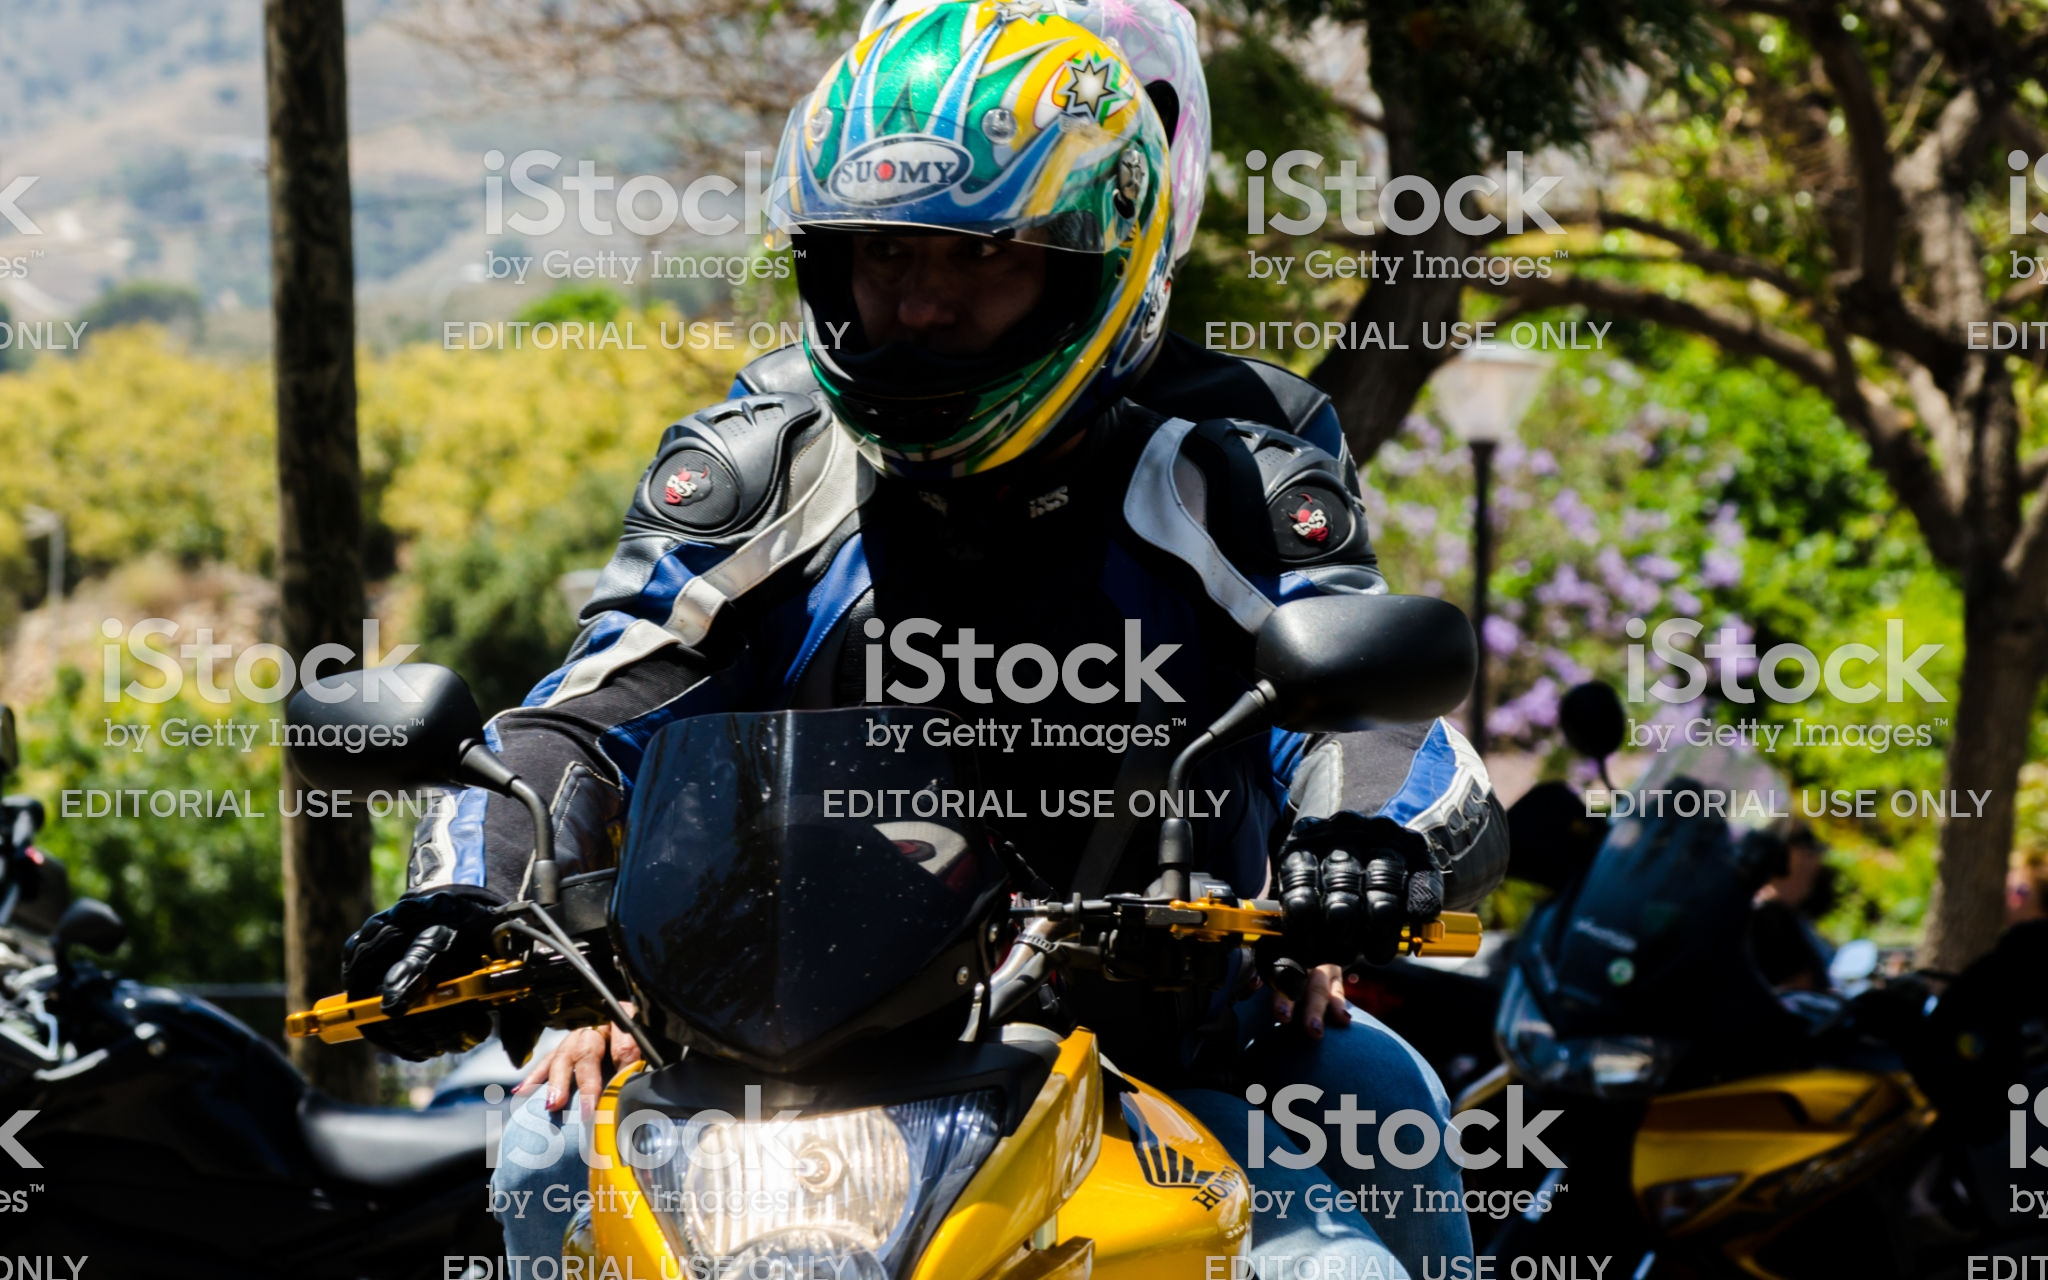helmet: (739, 21, 1174, 485)
